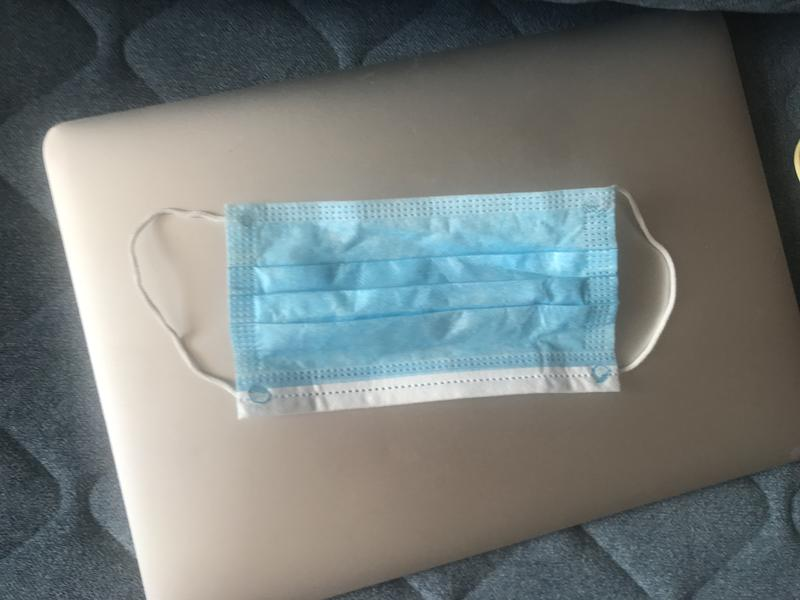medical_mask: (132, 182, 676, 418)
